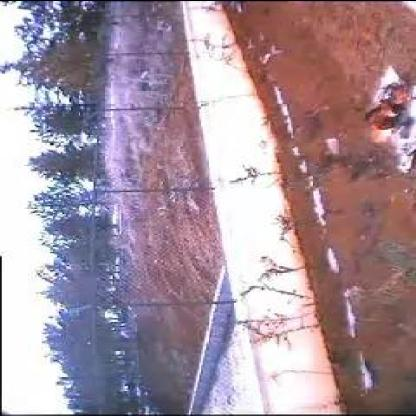-: (344, 143, 366, 164)
foggia-v2-map80-epoch100 - v1 4323: (368, 127, 394, 145)
